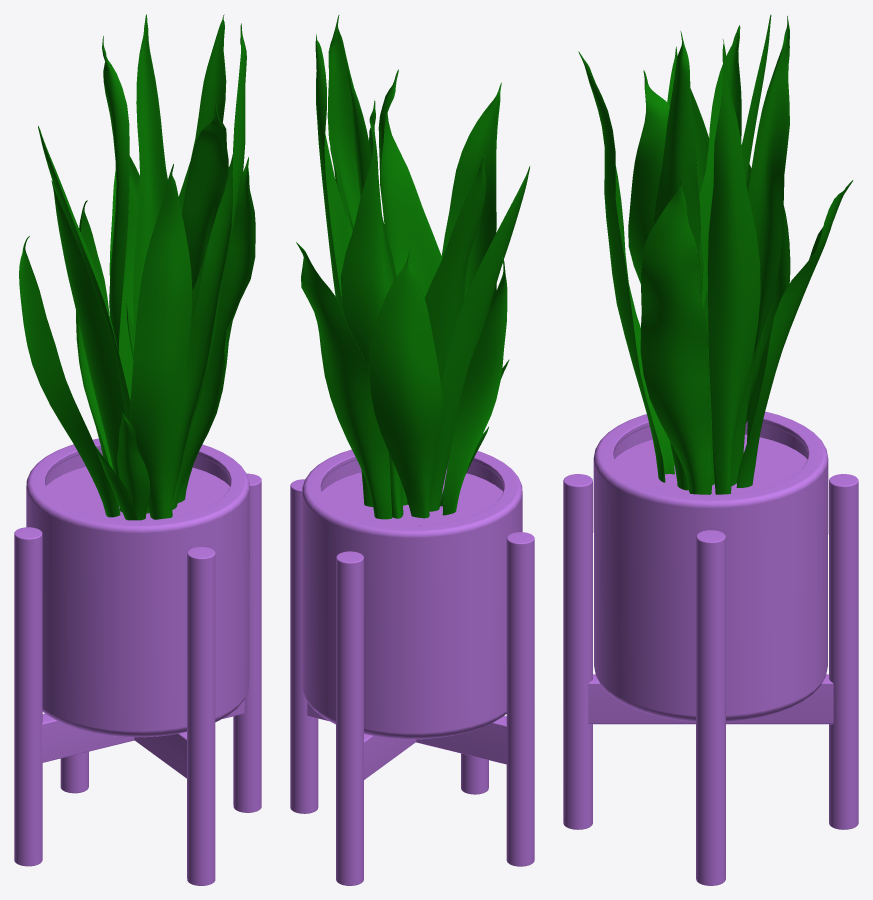
File: Potted-plant.glb
The picture shows the model from 3 angles, left to right: view 1: azimuth 30°, elevation 25°; view 2: azimuth 150°, elevation 25°; view 3: azimuth 270°, elevation 25°; orthographic projection. The views are drawn at different scales.
Parts seen in each view (by area): view 1: Sansevieria; view 2: Sansevieria; view 3: Sansevieria.
Boxes of the visible parts, bbox=[...] form: Sansevieria: bbox=[14, 14, 261, 885]; Sansevieria: bbox=[290, 15, 534, 885]; Sansevieria: bbox=[563, 14, 858, 885].
Bounding box in the file's own units: 2.3 × 7.2 × 2.3.
